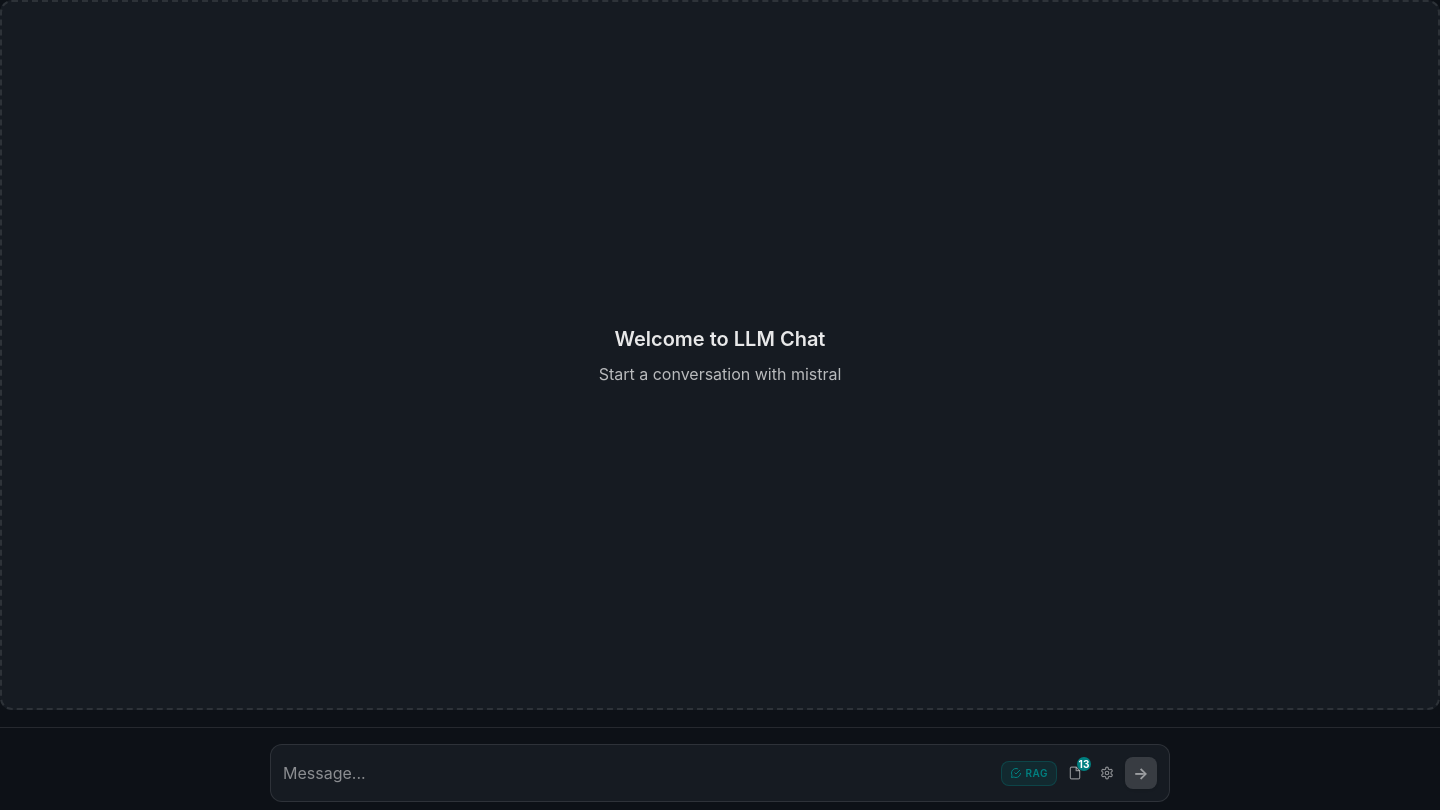
ChatPage RAG Features › Settings and Chat Controls › clears chat history when clear button is clicked
Type "Test message" into the text box with placeholder "Message...". click: (638, 773)
box: top-left (283, 757), bottom-right (993, 789)
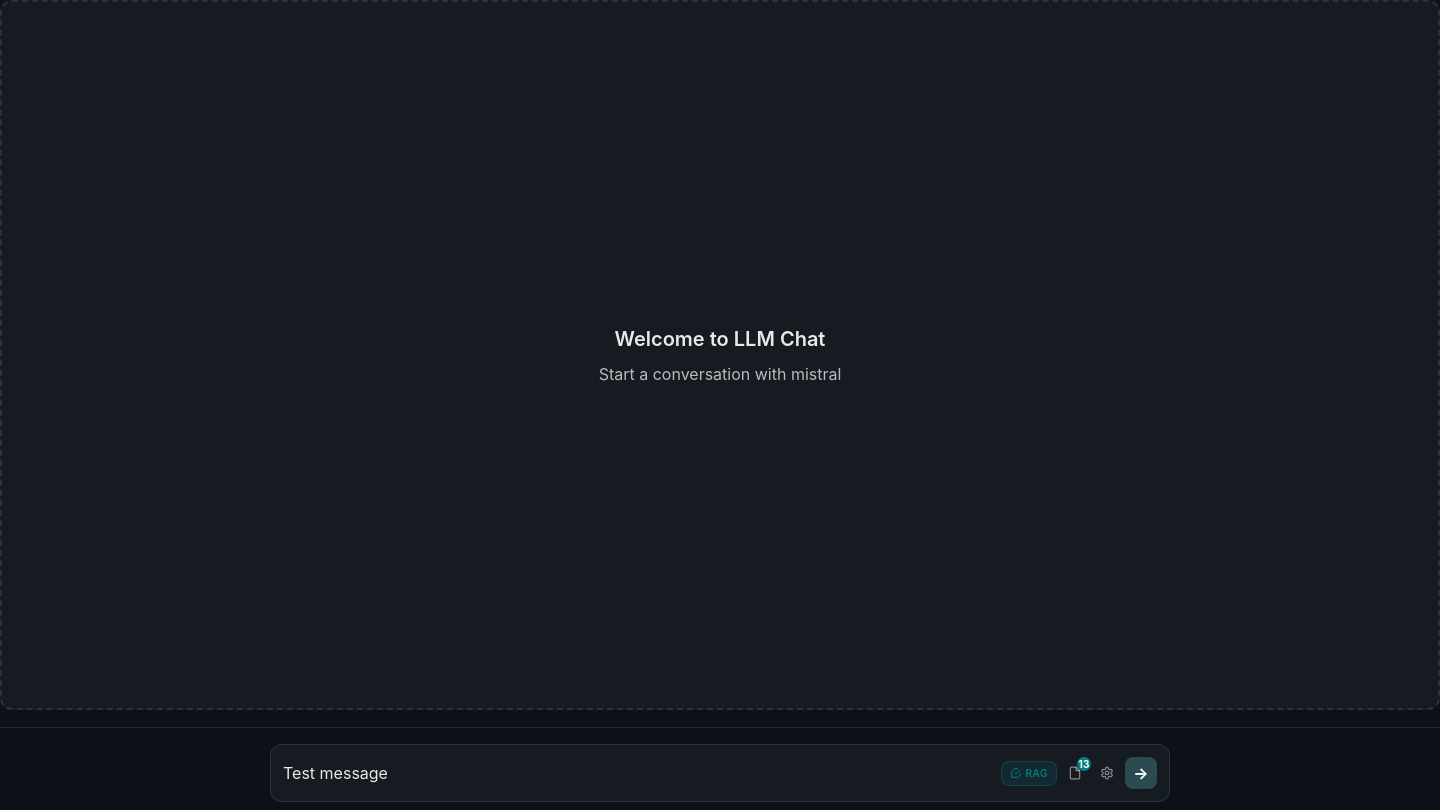
Press Enter in the text box with placeholder "Message...", box top-left (283, 757), bottom-right (993, 789)
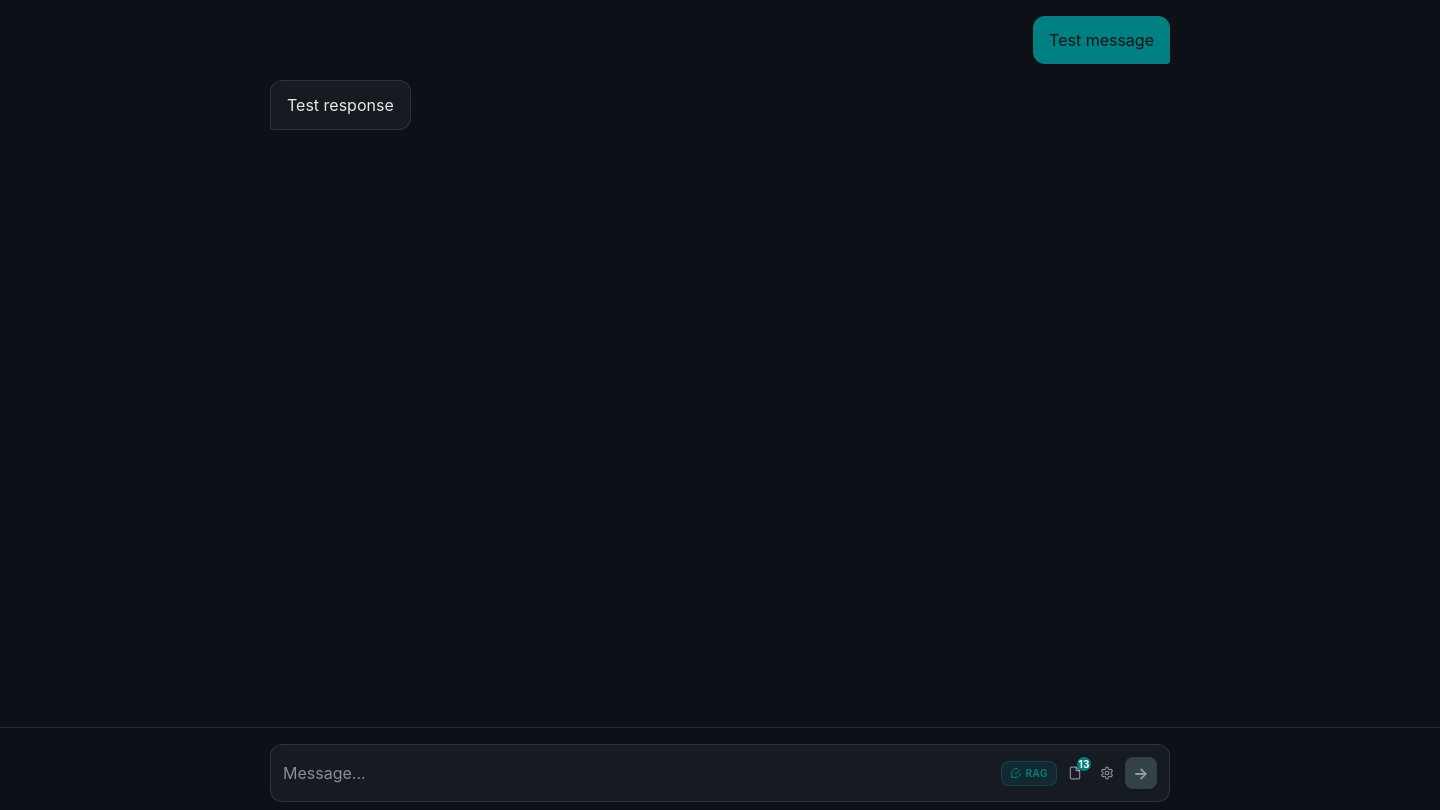
Check: the text "Test message" is shown, box top-left (1049, 28), bottom-right (1154, 52)
Check: the text "Test response" is shown, box top-left (287, 93), bottom-right (394, 117)
Click the 2nd button. click: (1107, 773)
box: top-left (1093, 759), bottom-right (1121, 787)
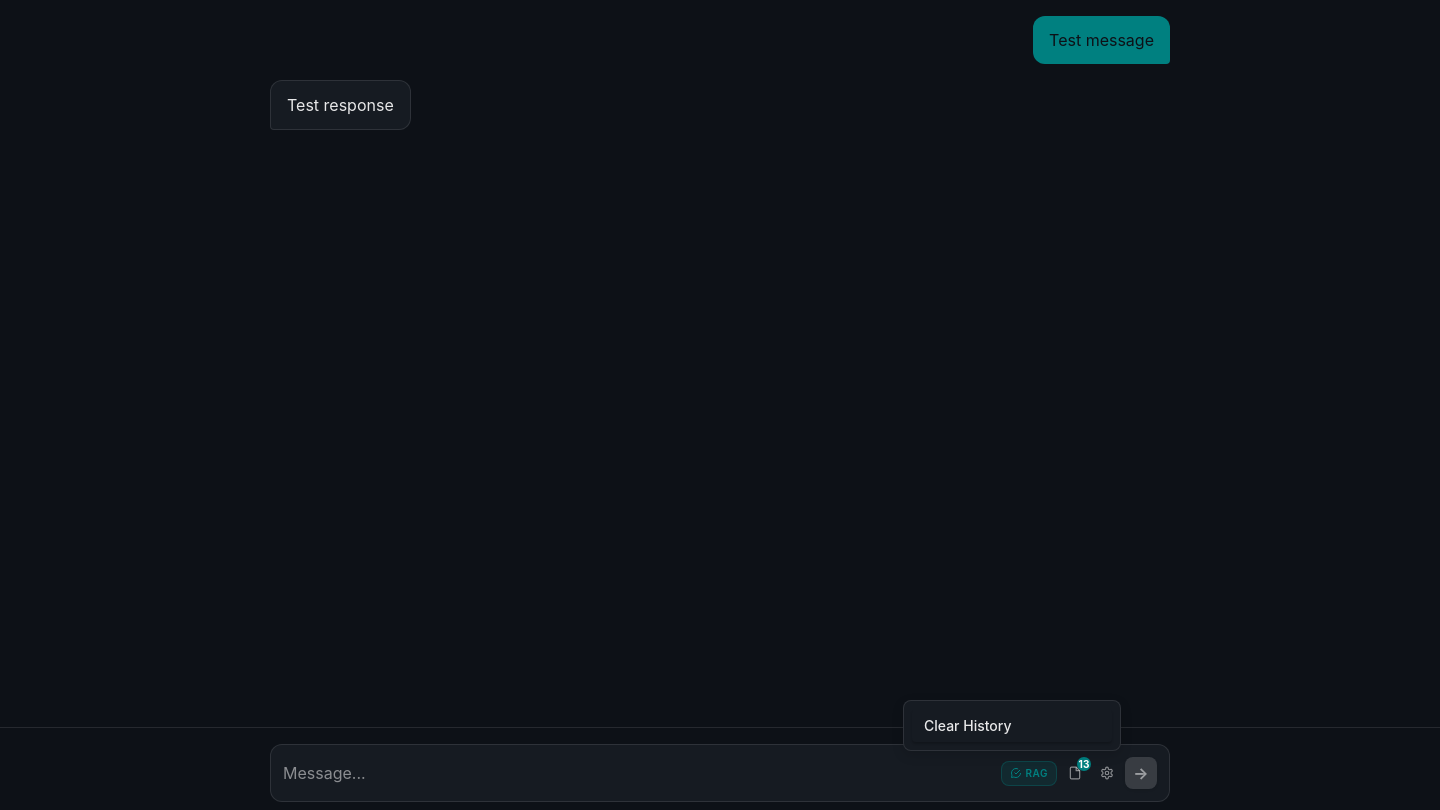
Click the button "Clear History". click: (1012, 726)
box: top-left (912, 709), bottom-right (1112, 742)
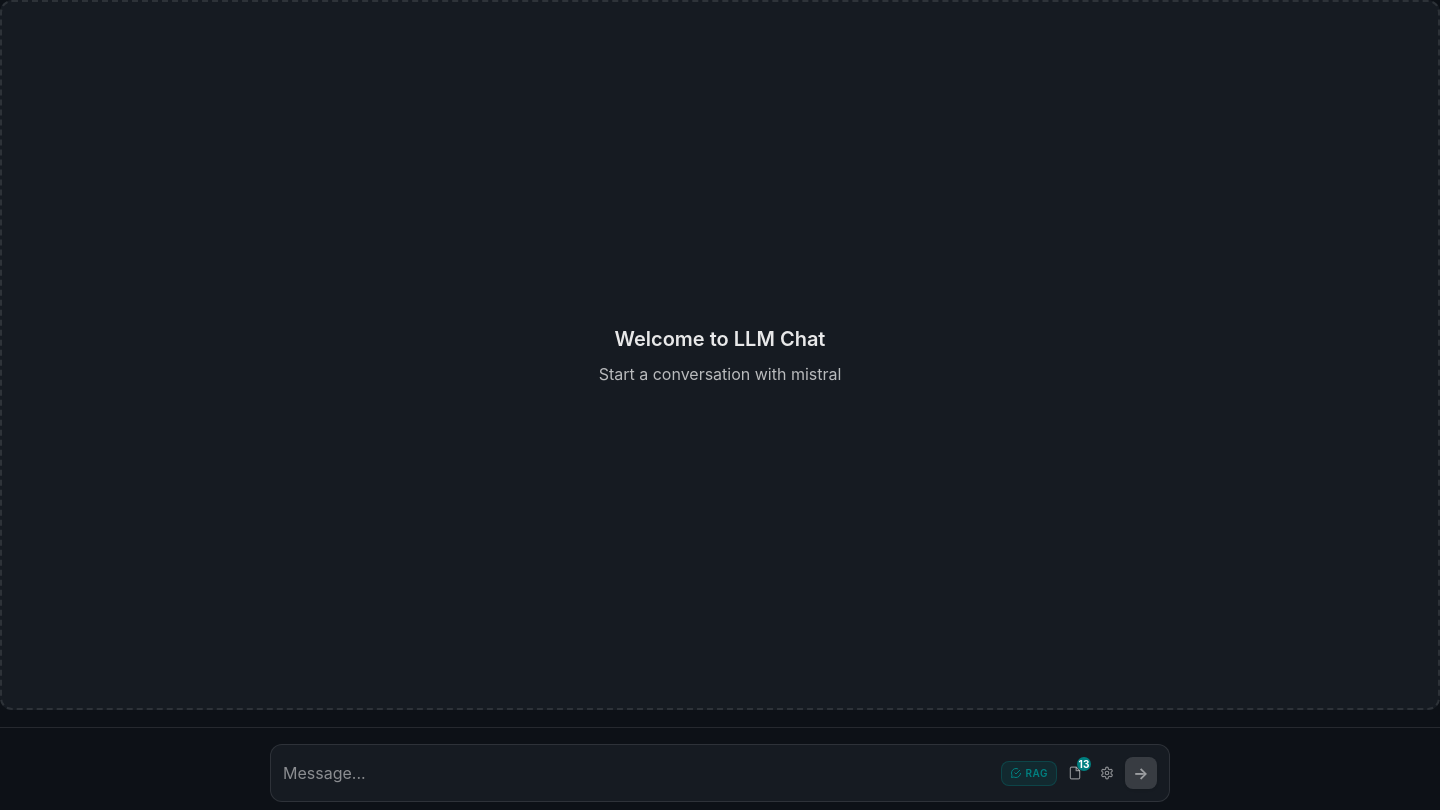
Check: the text "Test message" is gone
Check: the text "Test response" is gone
Check: the heading "Welcome to LLM Chat" is shown, box top-left (599, 324), bottom-right (841, 354)
